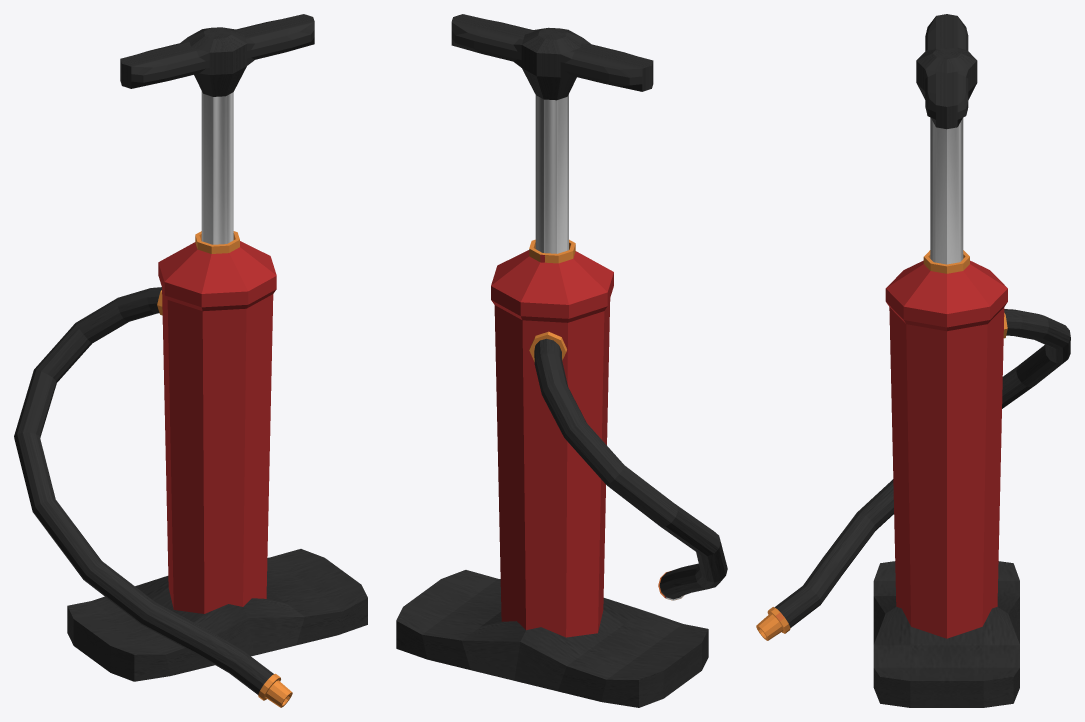
The model's file is handpomp.fbx.
The picture shows the model from 3 angles, left to right: view 1: azimuth 30°, elevation 25°; view 2: azimuth 150°, elevation 25°; view 3: azimuth 270°, elevation 25°; orthographic projection. The views are drawn at different scales.
Parts seen in each view (by area): view 1: base, handle; view 2: base, handle; view 3: base, handle.
Boxes of the visible parts, left/top/right/bottom form: base: left=14, top=231, right=367, bottom=707; handle: left=120, top=14, right=314, bottom=244; base: left=396, top=239, right=727, bottom=707; handle: left=451, top=14, right=653, bottom=253; base: left=756, top=250, right=1070, bottom=707; handle: left=916, top=14, right=977, bottom=264.
Bounding box in the file's own units: 125 × 241 × 114.
